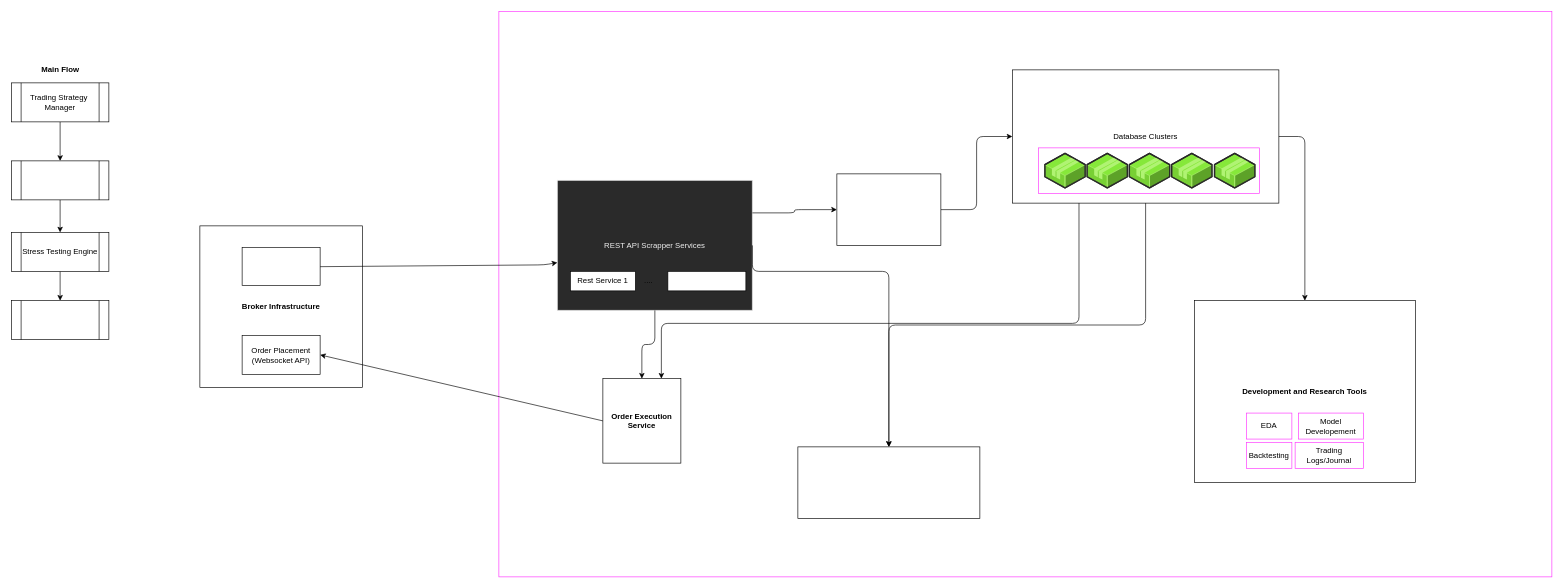
This 1563x588 diagram has some shape labels left out. Each missing label, with the centre of its shape:
"Backtesting Engine" goes at point (60, 180).
"Live Market Testing" goes at point (60, 320).
"Price Streaming (Websocket API)" goes at point (280, 266).
"Quantitative Algorithm Service (Generate Trading Signals)" goes at point (888, 482).
"Rest Service n" goes at point (706, 281).
"Scrapper Service" goes at point (888, 209).
